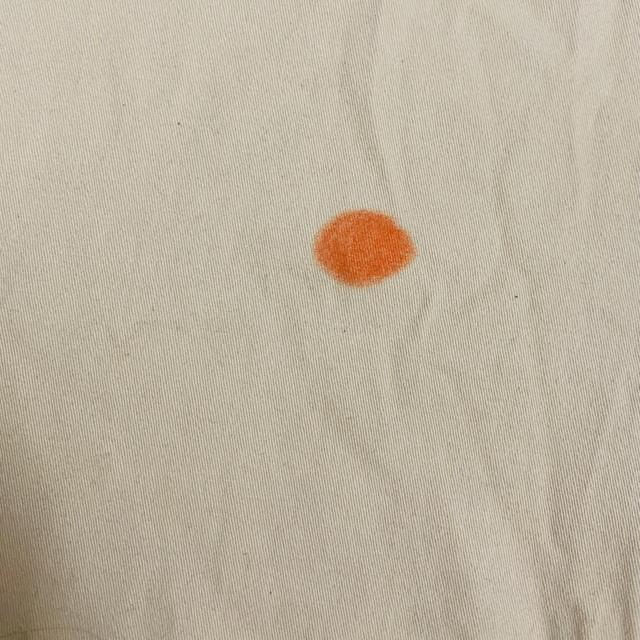Stain: (315, 210, 416, 286)
